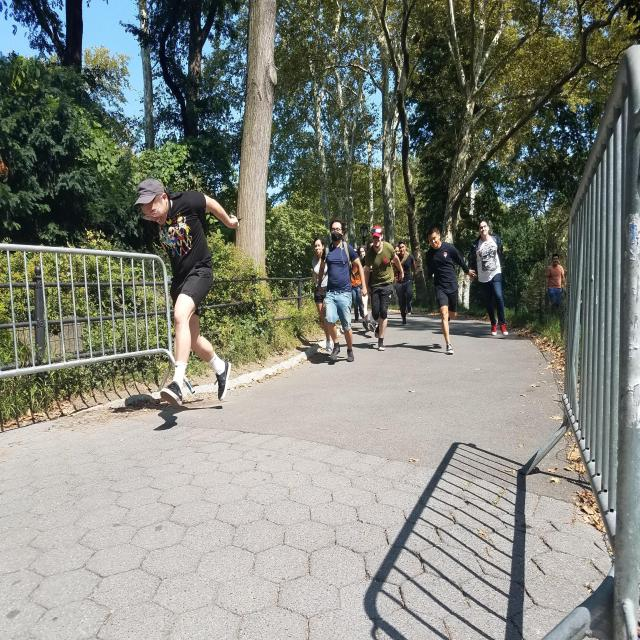body: (131, 175, 241, 410), (317, 216, 368, 364), (424, 225, 477, 357), (362, 224, 405, 352), (466, 218, 509, 337), (312, 236, 333, 352), (393, 239, 417, 326), (356, 243, 374, 332), (544, 252, 566, 320), (357, 244, 373, 331), (394, 242, 410, 320), (349, 248, 365, 323), (382, 233, 390, 244)
